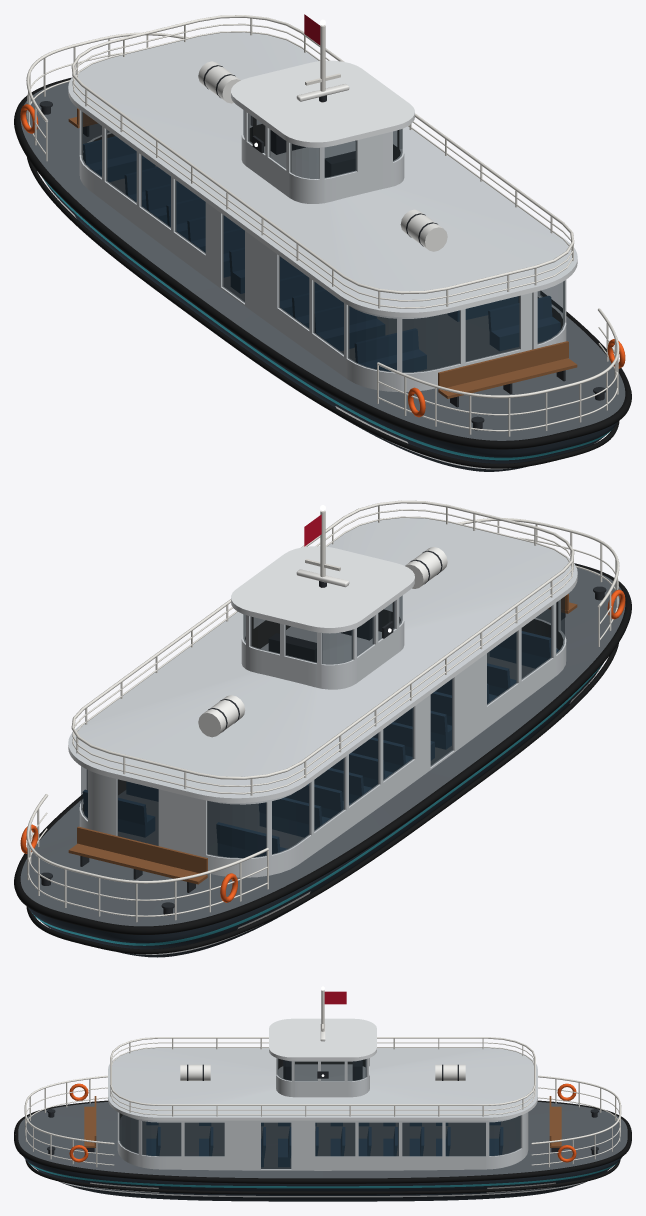
Rendered from ferry_river.glb.
The picture shows the model from 3 angles, top to bottom: view 1: azimuth 30°, elevation 25°; view 2: azimuth 150°, elevation 25°; view 3: azimuth 270°, elevation 25°; orthographic projection. The views are drawn at different scales.
Visible parts, largest first — view 1: Body; view 2: Body; view 3: Body, Trim, Flag.
Part boxes in pixels (x1,y1,x2,y2): Body: (14, 15, 631, 471); Body: (14, 500, 631, 957); Body: (14, 986, 631, 1201); Trim: (90, 1182, 555, 1192); Flag: (324, 991, 346, 1004).
Size of what is drawn, in the model's own units: 7.13 by 7.83 by 22.29.
